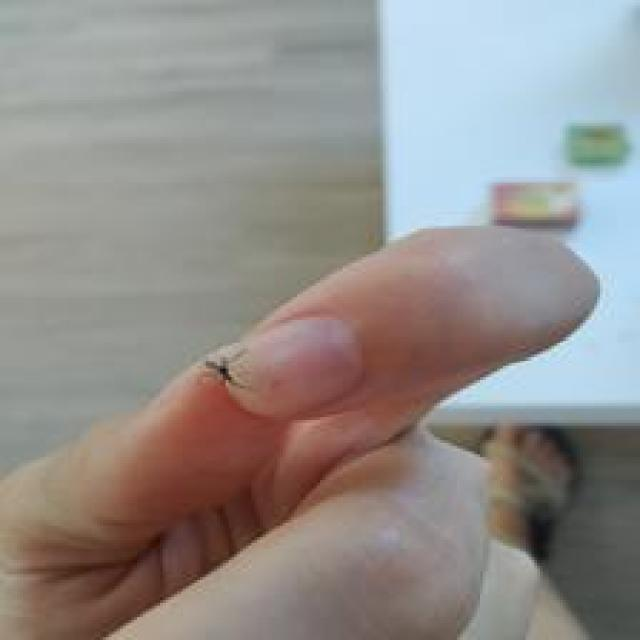Aedes albopictus: (203, 341, 254, 393)
